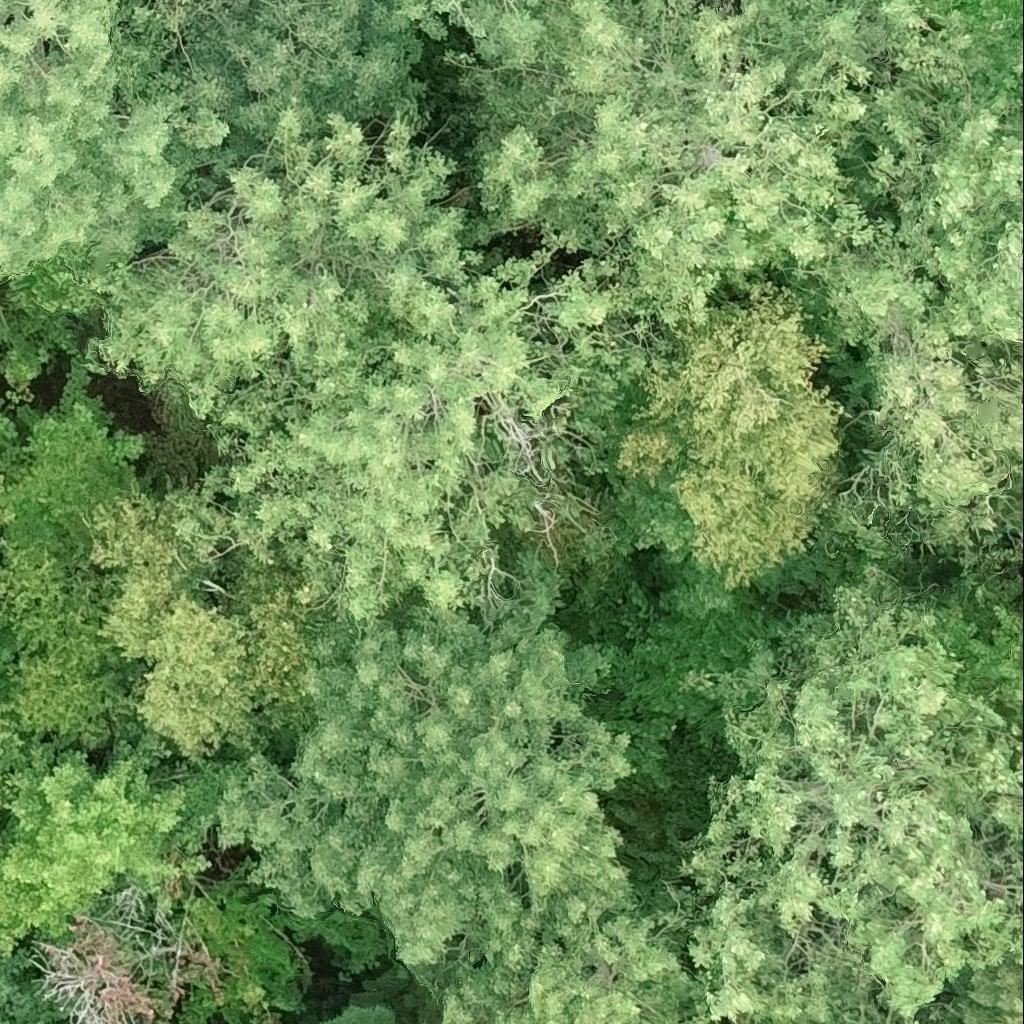crown: (175, 246, 668, 649), (220, 558, 637, 971), (691, 566, 1023, 1023), (478, 0, 926, 311), (93, 115, 489, 453), (800, 4, 1023, 572), (89, 488, 352, 761), (0, 711, 273, 960), (622, 282, 840, 588), (0, 0, 230, 270), (420, 867, 740, 1023), (154, 0, 424, 173), (38, 879, 308, 1023), (0, 368, 150, 604), (4, 546, 149, 746), (0, 244, 141, 384), (394, 0, 542, 53), (942, 947, 1023, 1023), (921, 0, 1023, 59), (0, 943, 66, 1023), (0, 603, 46, 708), (0, 706, 17, 815), (127, 0, 199, 24), (323, 1003, 397, 1023), (0, 294, 20, 362), (0, 478, 6, 521), (1020, 63, 1023, 80), (421, 1021, 429, 1023)
